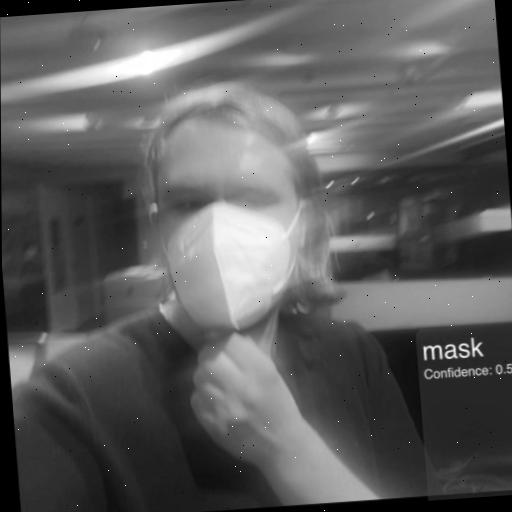mask: (119, 66, 343, 342)
